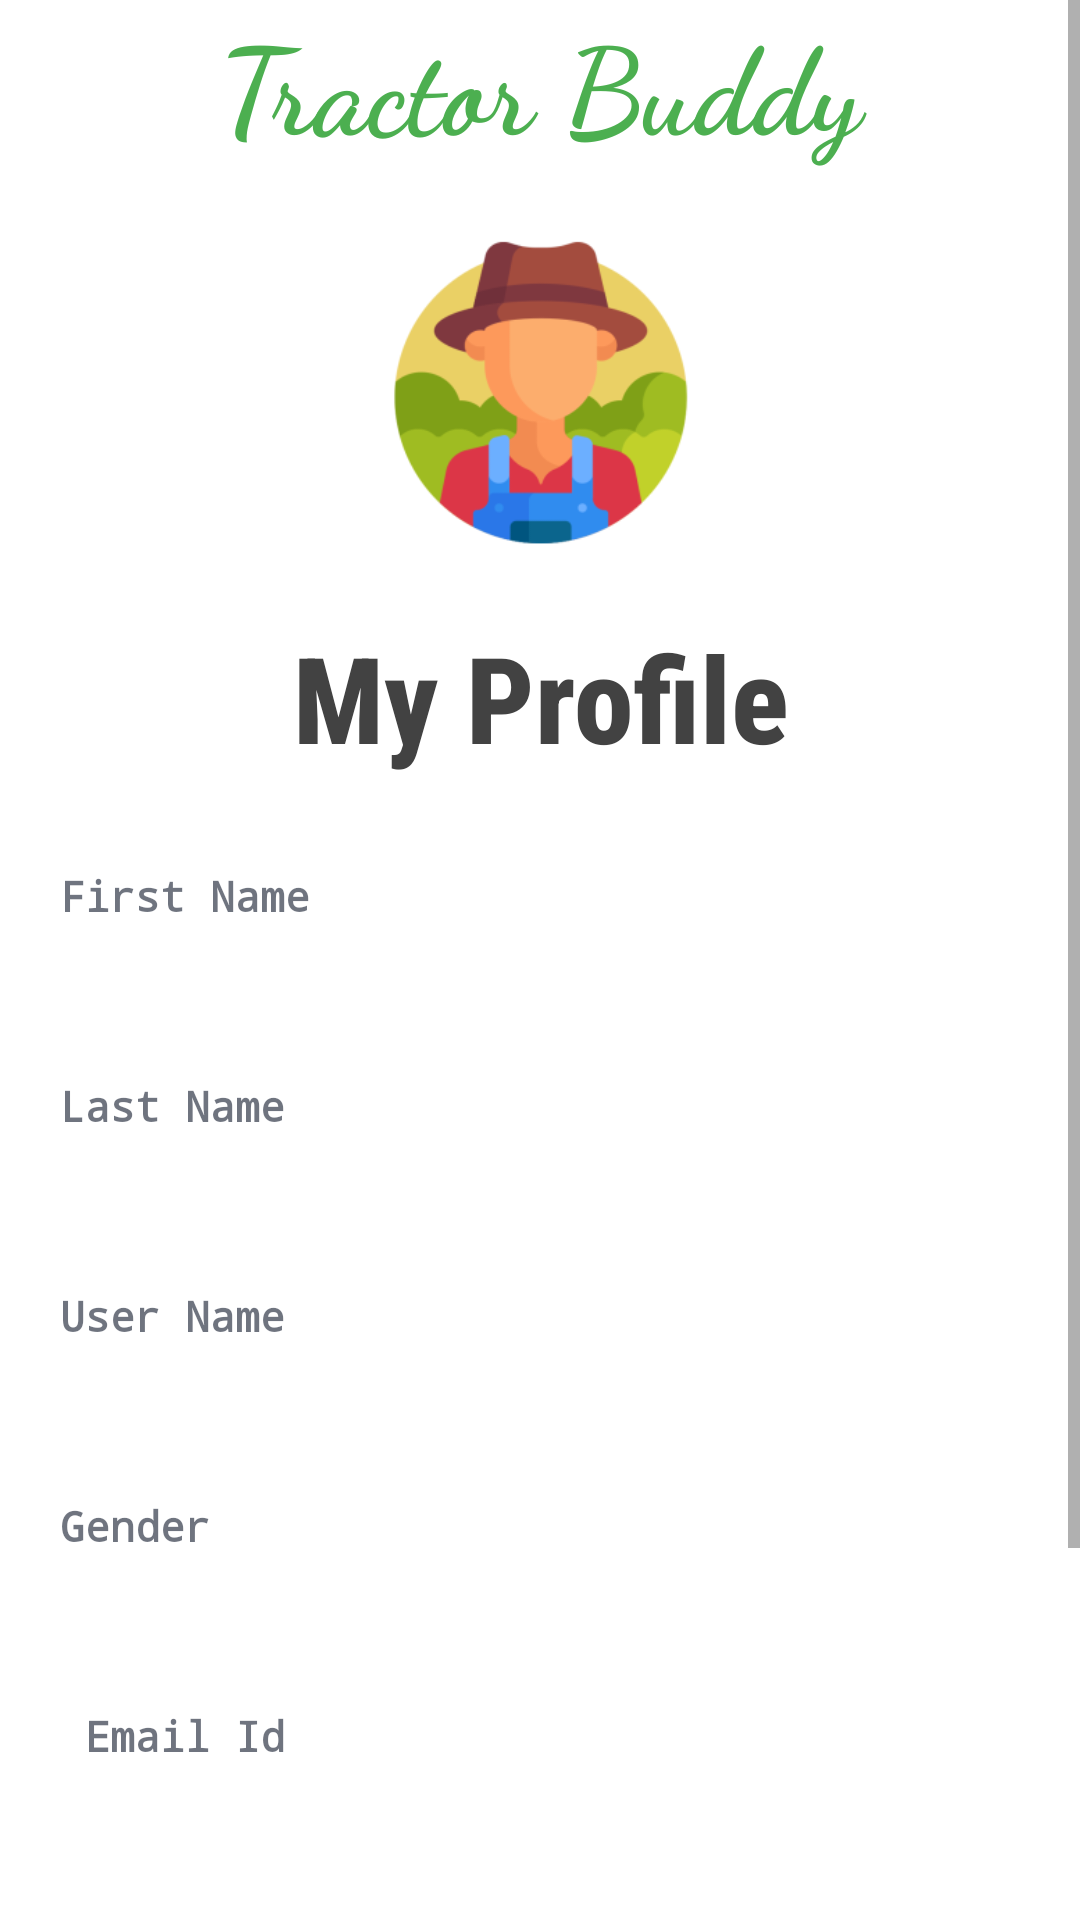

Where icons sit on this 1080w x 1920h app screen, as (x1,y1,x2,y2):
farmerimg: (394,241,688,544)
